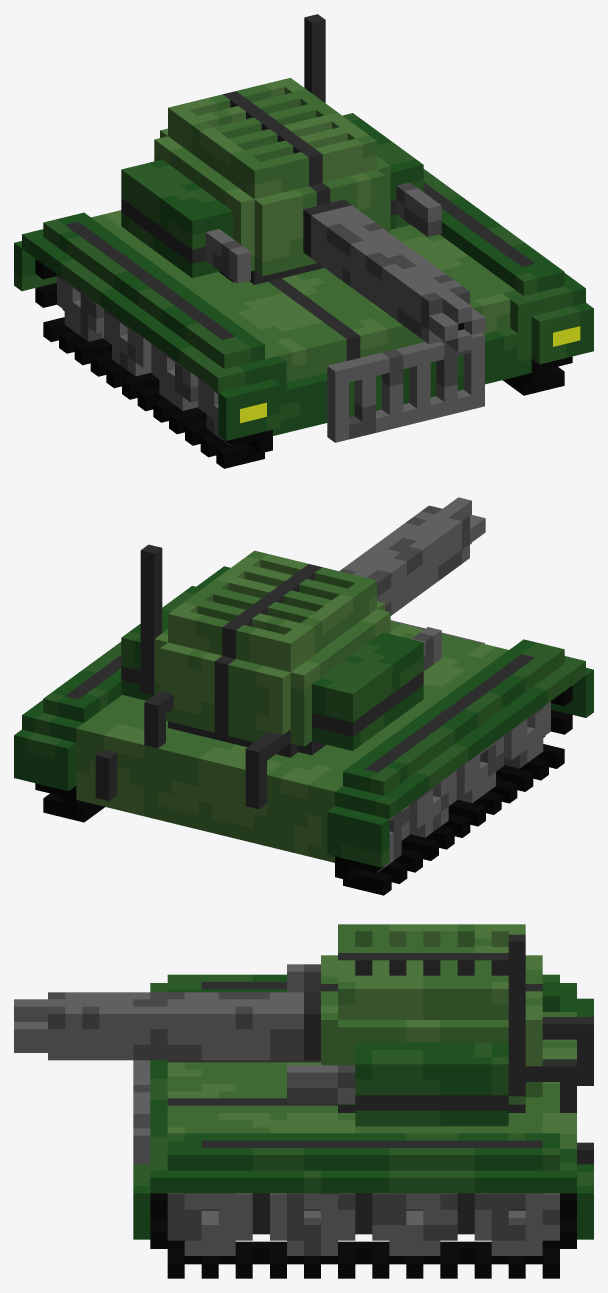
Rendered from tank.obj.
The picture shows the model from 3 angles, top to bottom: view 1: azimuth 30°, elevation 25°; view 2: azimuth 150°, elevation 25°; view 3: azimuth 270°, elevation 25°; orthographic projection. The views are drawn at different scales.
Size of the model in its own units: 2.7 by 1.9 by 3.4.
Materials: 1 (1 with a texture image).
